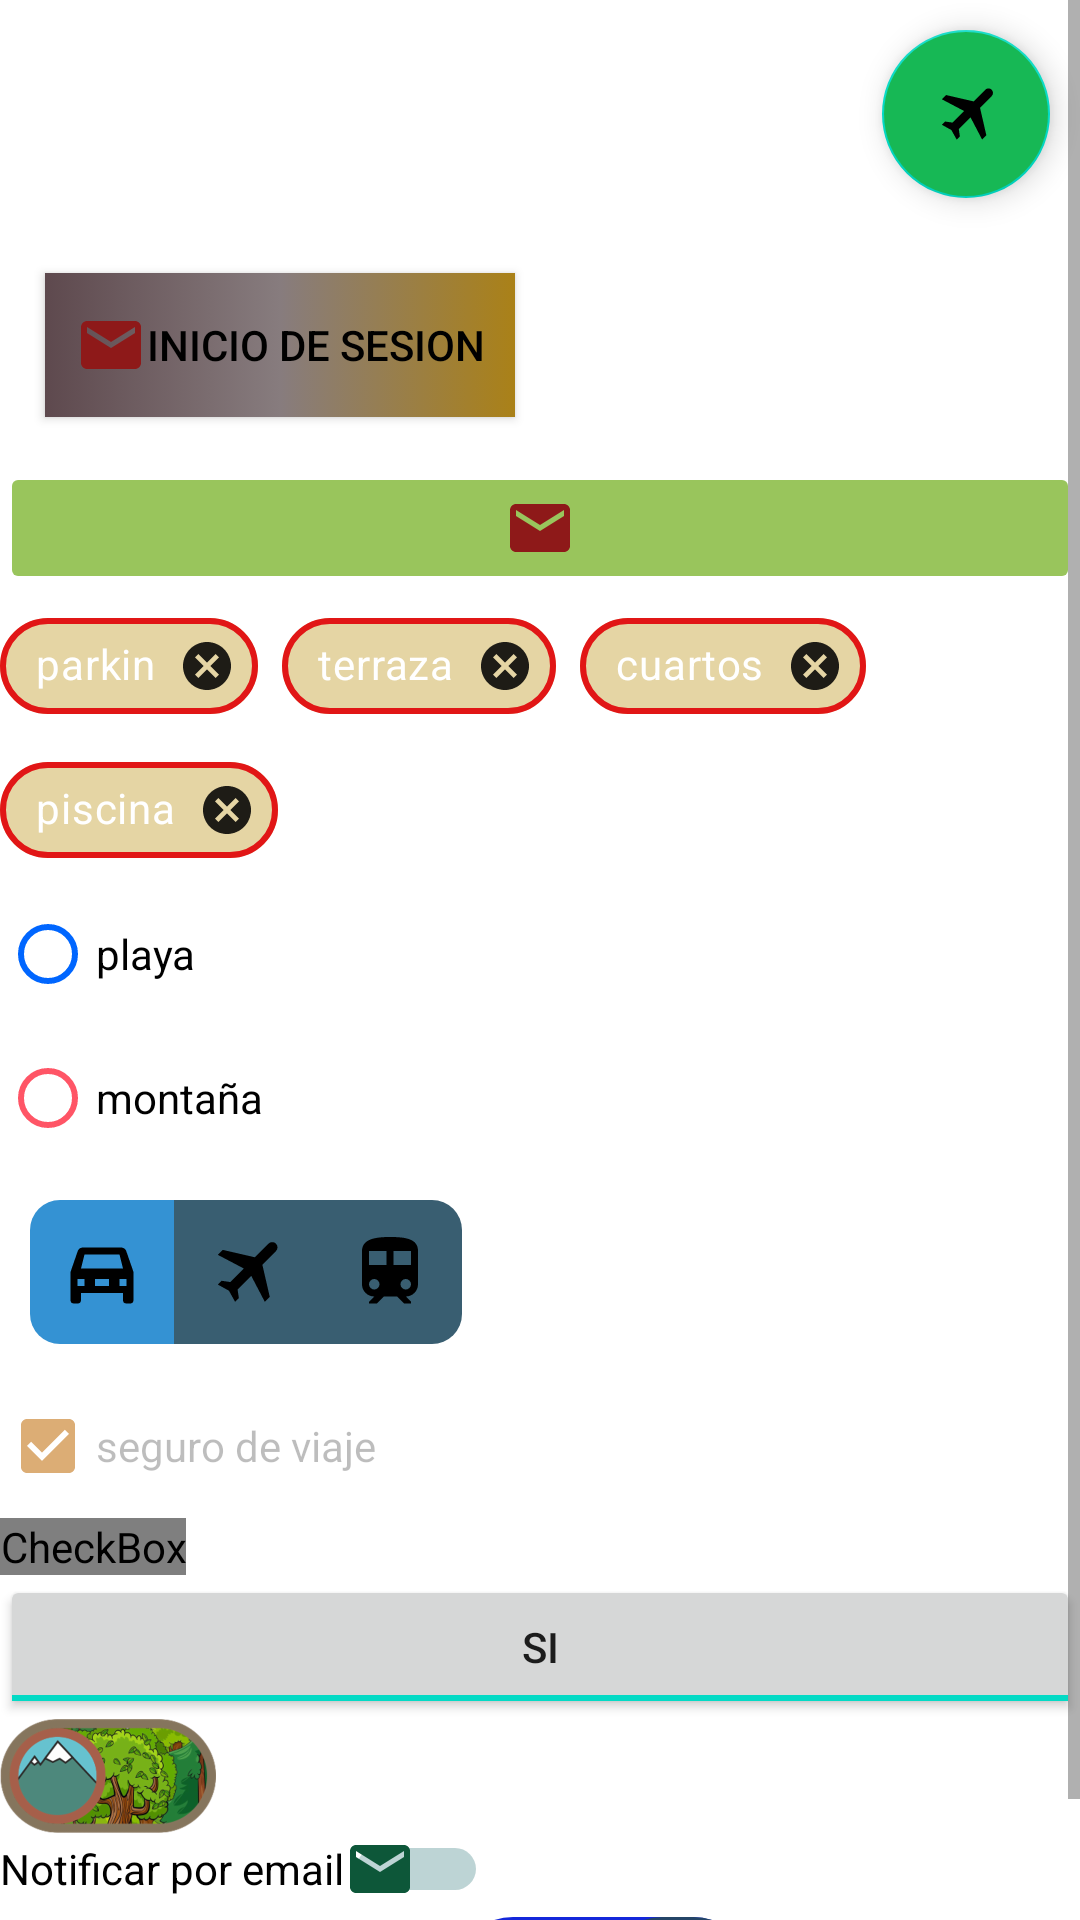

Point at icon controls on the screen. Image size 1080×1920, points as (x,y).
airplane: (966,114)
